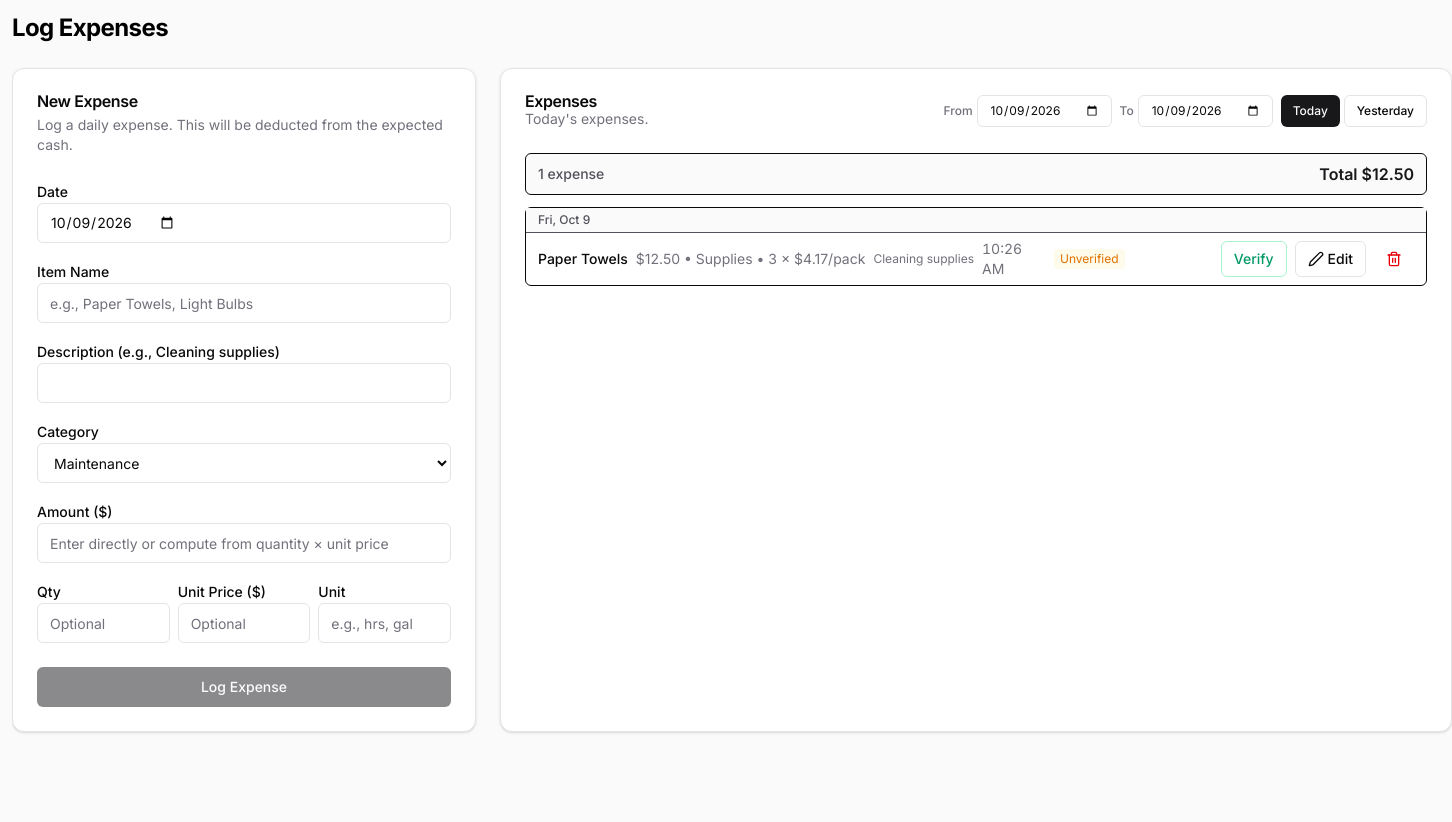
Test: Expenses › edits an expense via PUT when a reason is provided
This screenshot has width=1452, height=822.
Check: the text "Cleaning supplies" is shown, box [873, 251, 974, 267]
Click the button "Edit". click: (1330, 259)
box: [1295, 241, 1366, 277]
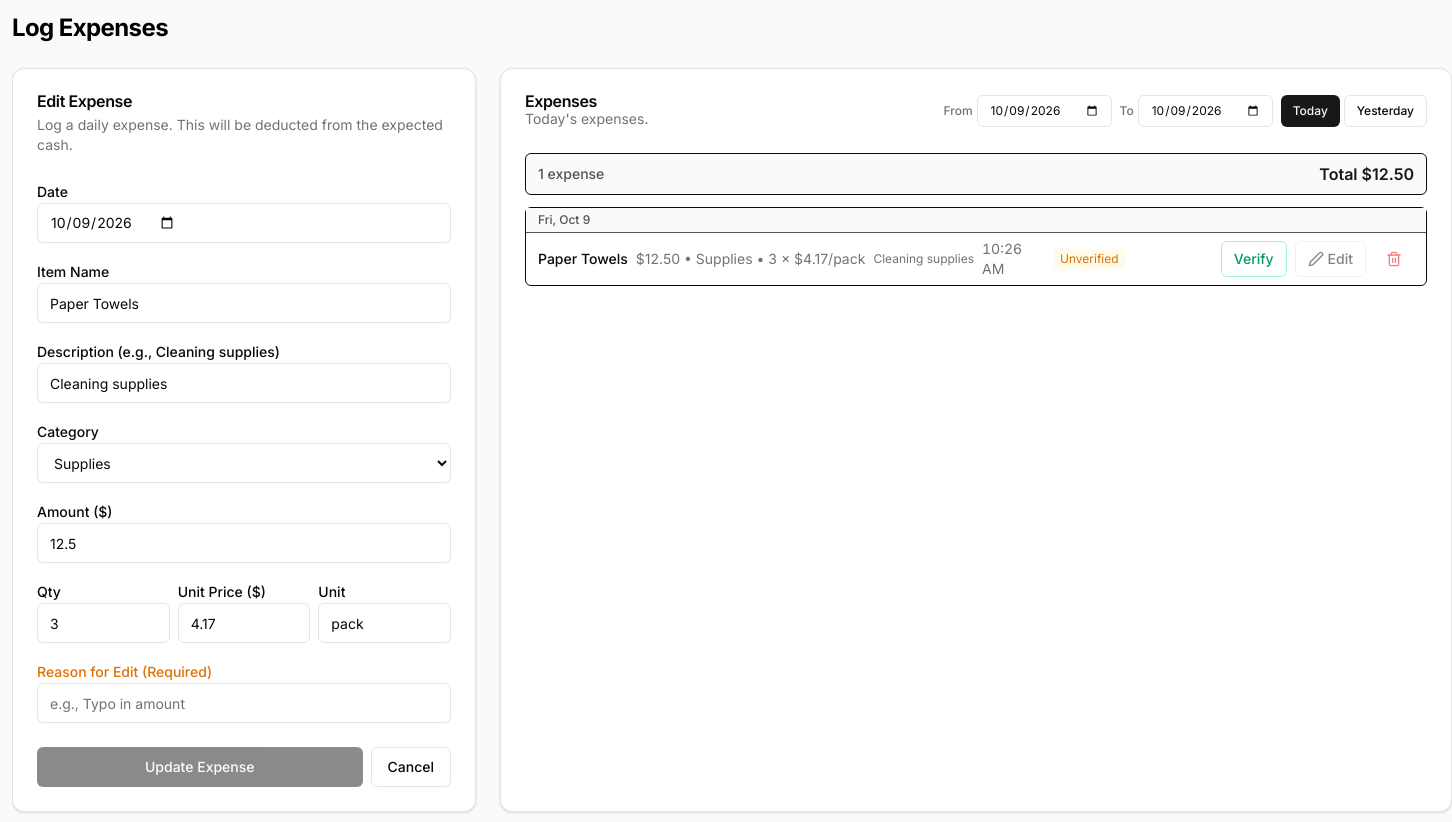
Type "Typo in amount" into the field labelled "Reason for Edit (Required)". click: (244, 703)
box: [37, 683, 451, 723]
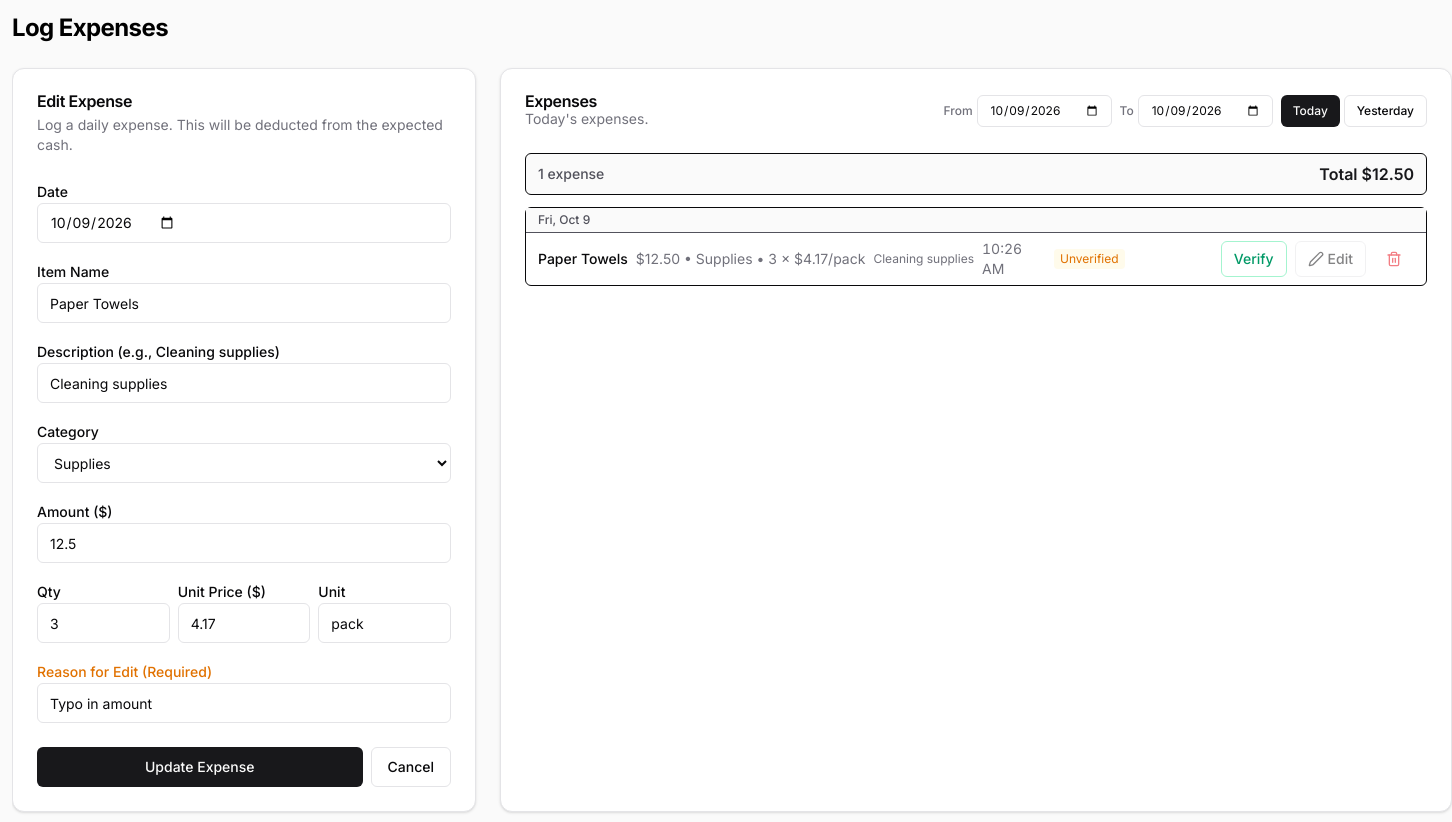
Replace the text in the field labelled "Description (e.g., Cleaning supplies)" with "Cleaning supplies (corrected)". click: (244, 383)
box: [37, 363, 451, 403]
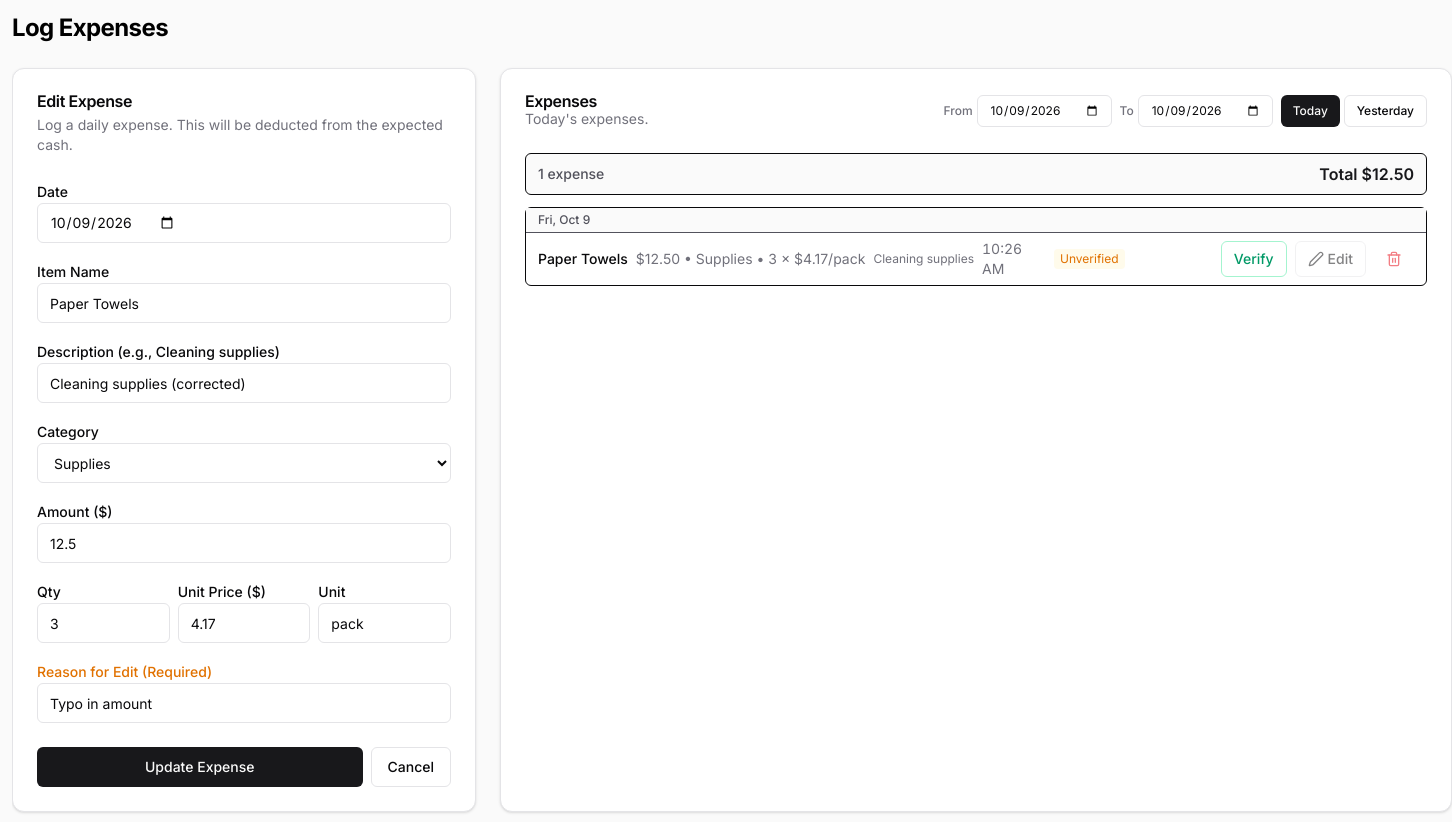
Submit the text "Update Expense", box [13, 69, 475, 811]
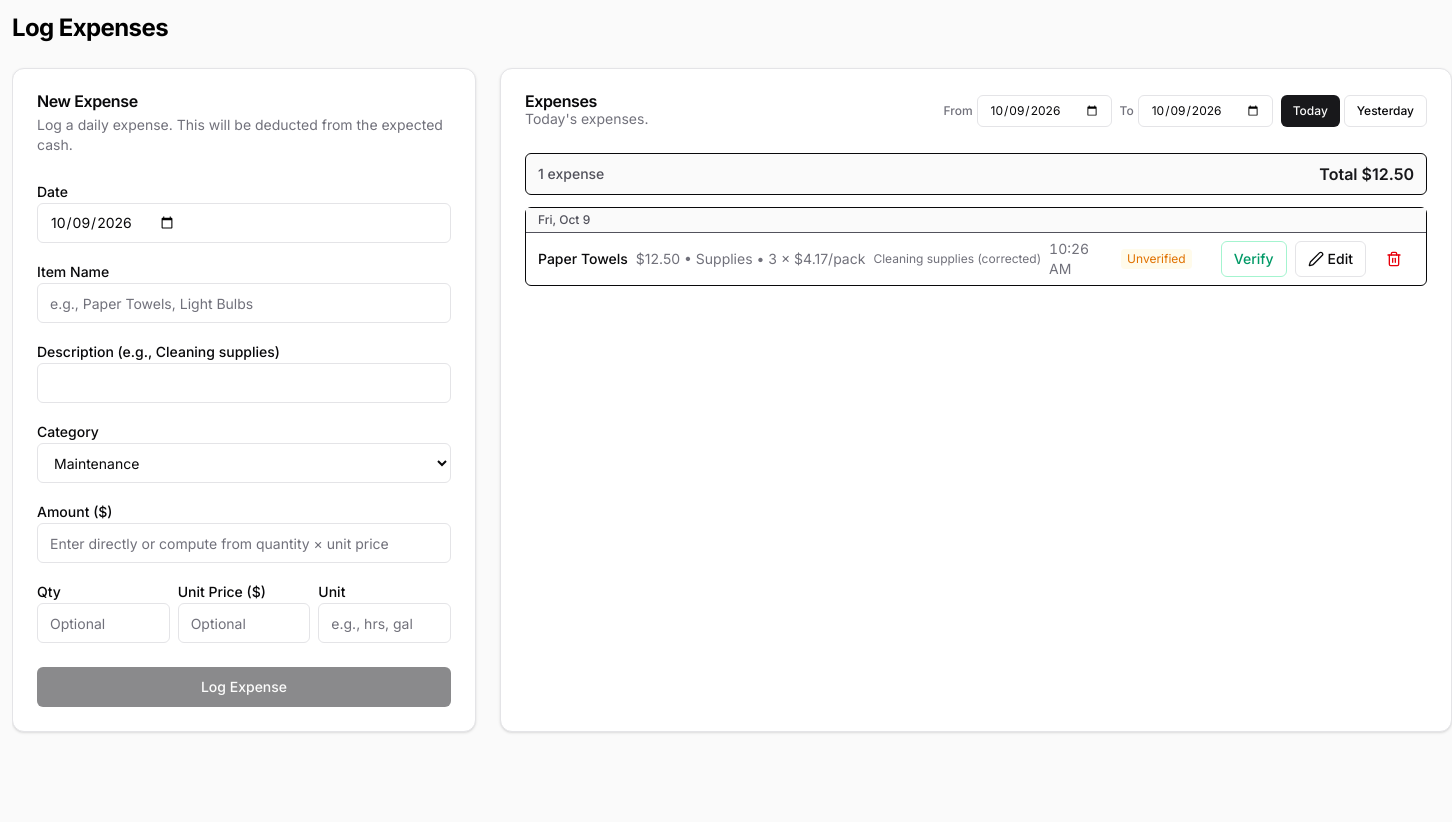
Check: the text "Cleaning supplies (corrected)" is shown, box [873, 251, 1041, 267]
